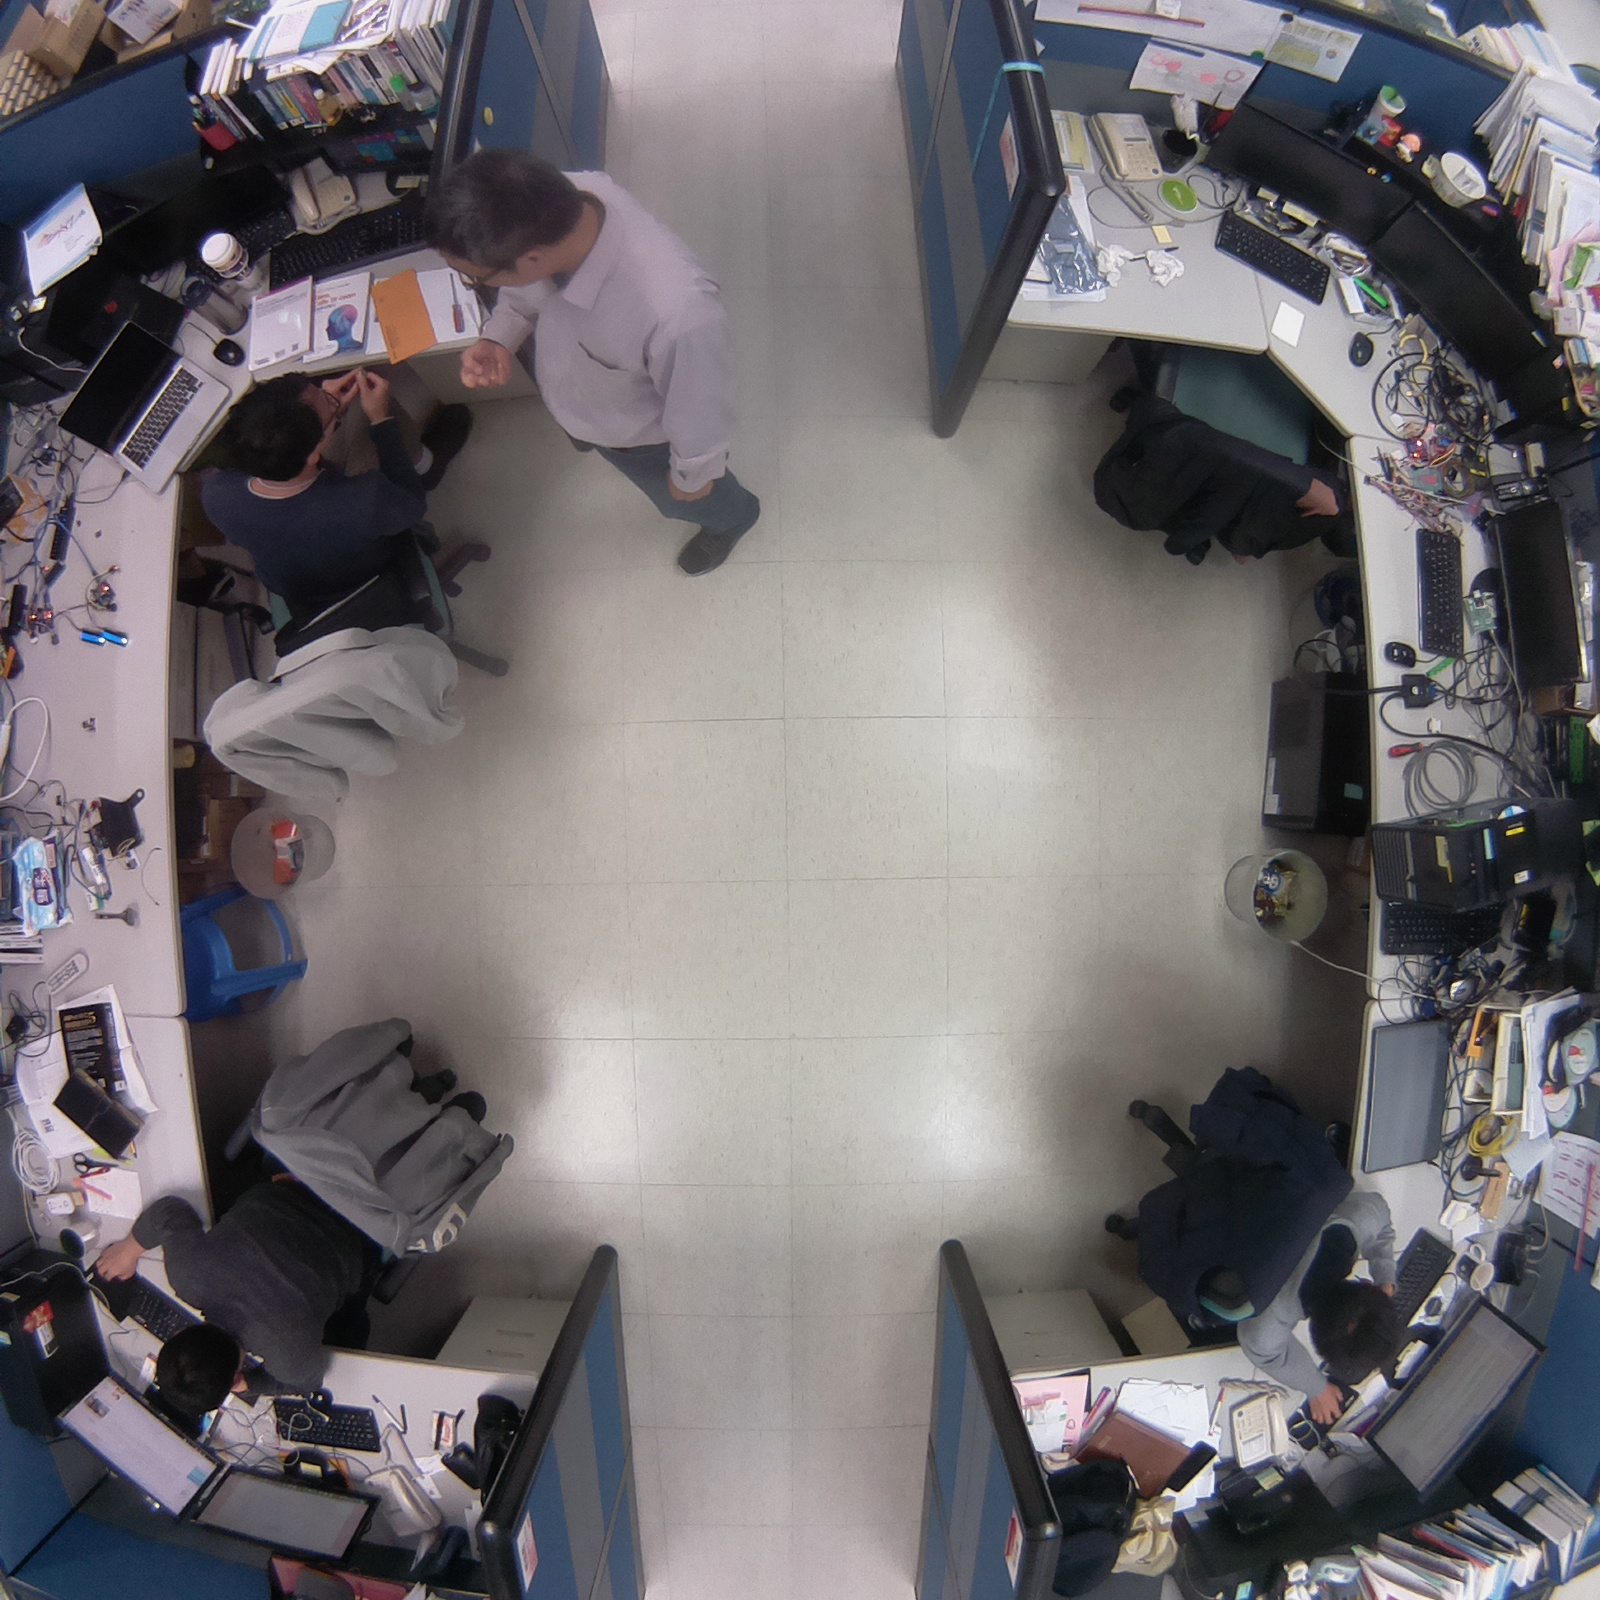chair: (1086, 314, 1365, 586)
head: (410, 142, 583, 270), (217, 361, 336, 482), (1300, 1268, 1410, 1391), (144, 1321, 246, 1423)
sitting: (113, 988, 532, 1431), (173, 350, 550, 827), (418, 151, 783, 593), (1078, 1042, 1429, 1435)
standing: (418, 151, 783, 593)
